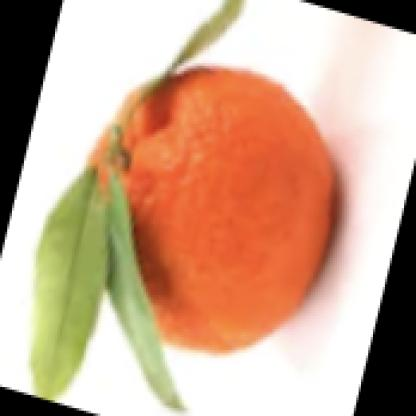fresh: (80, 61, 347, 359)
